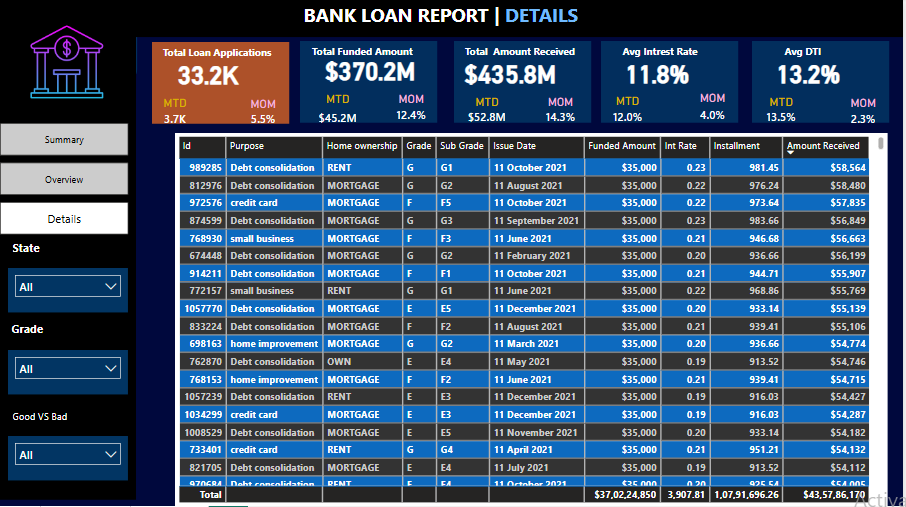

The page's visual inventory and layout, read from the dashboard file:
{"tool":"powerbi","page":{"name":"Details","canvas":[1280,720],"ordinal":2},"visuals":[{"type":"shape","box":[425.8,60.9,194.9,116.2],"z":0,"group":"g5"},{"type":"shape","box":[642.1,60.9,194.9,116.2],"z":0,"group":"g6"},{"type":"shape","box":[851.3,60.9,194.9,116.2],"z":0,"group":"g2"},{"type":"shape","box":[1065.8,60.9,194.9,116.2],"z":0,"group":"g1"},{"type":"shape","box":[214.9,62.7,194.9,116.2],"z":0,"group":"g4"},{"type":"shape","box":[0.3,0.1,194.9,116.2],"z":1000},{"type":"card","fields":{"Values":["Date Table.Total Funded Amount"]},"box":[435,67.2,178.8,66.1],"z":1000,"group":"g5"},{"type":"card","fields":{"Values":["Date Table.Total Amount Received"]},"box":[632.8,71.5,178.8,66.1],"z":1000,"group":"g6"},{"type":"card","fields":{"Values":["Date Table.Avg Interest Rate"]},"box":[842,71.5,178.8,66.1],"z":1000,"group":"g2"},{"type":"card","fields":{"Values":["Date Table.Avg DTI"]},"box":[1056.5,71.5,178.8,66.1],"z":1000,"group":"g1"},{"type":"card","fields":{"Values":["Date Table.Total Loan Applications"]},"box":[205.6,73.3,178.8,66.1],"z":1000,"group":"g4"},{"type":"shape","box":[0,55.3,192.8,656.2],"z":2000},{"type":"textbox","box":[425.5,60.8,195.6,35.4],"z":2000,"group":"g5"},{"type":"textbox","box":[641.8,60.8,195.6,35.4],"z":2000,"group":"g6"},{"type":"textbox","box":[851,60.8,195.6,35.4],"z":2000,"group":"g2"},{"type":"textbox","box":[1065.5,60.8,195.6,35.4],"z":2000,"group":"g1"},{"type":"textbox","box":[214.6,62.6,195.6,35.4],"z":2000,"group":"g4"},{"type":"shape","box":[0,0,1280,55.7],"z":3000},{"type":"card","title":"MOM","fields":{"Values":["Date Table.MOM total avg intreset amount"]},"box":[972,132,75.1,53.6],"z":3000,"group":"g2"},{"type":"card","title":"MOM","fields":{"Values":["Date Table.MOM total funded amount"]},"box":[547.7,133.3,71.5,48.3],"z":3000,"group":"g5"},{"type":"card","title":"MOM","fields":{"Values":["Date Table.MOM total Amount Recieved"]},"box":[762.8,137.2,60.8,44.7],"z":3000,"group":"g6"},{"type":"card","title":"MOM","fields":{"Values":["Date Table.MOM AVG DTI"]},"box":[1187.8,138.1,71.5,48.3],"z":3000,"group":"g1"},{"type":"card","title":"MOM","fields":{"Values":["Date Table.MOM Loan Application"]},"box":[336.8,140.2,71.5,46.5],"z":3000,"group":"g4"},{"type":"textbox","box":[425.5,0,445.1,55.4],"z":4000},{"type":"card","title":"MTD","fields":{"Values":["Date Table.MTD Funded Amount"]},"box":[436.8,133.3,84,57.2],"z":4000,"group":"g5"},{"type":"card","title":"MTD","fields":{"Values":["Date Table.MTD Avg Intrest rate"]},"box":[861.2,135.6,55.4,48.3],"z":4000,"group":"g2"},{"type":"card","title":"MTD","fields":{"Values":["Date Table.MTD Avg DTI"]},"box":[1076.4,137,62.6,46.5],"z":4000,"group":"g1"},{"type":"card","title":"MTD","fields":{"Values":["Date Table.MTD Total Amount Recieved"]},"box":[652,137.2,73.3,44.7],"z":4000,"group":"g6"},{"type":"card","title":"MTD","fields":{"Values":["Date Table.MTD Loan Application"]},"box":[224.6,139.2,48.2,49.6],"z":4000,"group":"g4"},{"type":"group","id":"g1","title":"Group 5","box":[1056.5,60.8,204.6,125.5],"z":4012,"group":"g3"},{"type":"group","id":"g2","title":"Group 1","box":[842,60.8,203.8,125.1],"z":5000},{"type":"group","id":"g3","title":"Group 1","box":[1056.5,60.8,204.6,125.5],"z":6000},{"type":"group","id":"g4","title":"Group 2","box":[205.6,62.6,204.6,126.2],"z":7000},{"type":"group","id":"g5","title":"Group 3","box":[425.5,60.8,196.6,130.5],"z":8000},{"type":"group","id":"g6","title":"Group 4","box":[632.8,60.8,205.6,121.6],"z":9000},{"type":"slicer","fields":{"Values":["financial_loan.address_state"]},"box":[10.7,382.6,169.8,62.6],"z":10000},{"type":"textbox","box":[12.5,337.9,85.8,44.7],"z":12000},{"type":"slicer","fields":{"Values":["financial_loan.grade"]},"box":[10.7,498.8,169.8,62.6],"z":13000},{"type":"textbox","box":[10.7,452.3,98.3,46.5],"z":14000},{"type":"slicer","fields":{"Values":["financial_loan.Good vs Bad"]},"box":[10.7,620.3,169.8,62.6],"z":15000},{"type":"textbox","box":[12.5,579.2,107.3,41.1],"z":16000},{"type":"tableEx","fields":{"Values":["financial_loan.id","financial_loan.purpose","financial_loan.home_ownership","financial_loan.grade","financial_loan.sub_grade","financial_loan.issue_date","Date Table.Total Funded Amount","Sum(financial_loan.int_rate)","Sum(financial_loan.installment)","Date Table.Total Amount Received"]},"box":[248.3,191.2,1010.3,529.4],"z":19001},{"type":"image","box":[31.4,24.3,127,132.7],"z":19002},{"type":"pageNavigator","box":[0,176.9,182.7,158.4],"z":19003}]}

Visuals, with their boxes on the page's 1280x720 design canvas (x1, y1, x2, y2). These are canvas units, not pixel positions in the 906x507 screenshot, which may show the page scaled, cropped or inside an application window:
shape: left=426, top=61, right=621, bottom=177
shape: left=642, top=61, right=837, bottom=177
shape: left=851, top=61, right=1046, bottom=177
shape: left=1066, top=61, right=1261, bottom=177
shape: left=215, top=63, right=410, bottom=179
shape: left=0, top=0, right=195, bottom=116
card - Date Table.Total Funded Amount: left=435, top=67, right=614, bottom=133
card - Date Table.Total Amount Received: left=633, top=72, right=812, bottom=138
card - Date Table.Avg Interest Rate: left=842, top=72, right=1021, bottom=138
card - Date Table.Avg DTI: left=1056, top=72, right=1235, bottom=138
card - Date Table.Total Loan Applications: left=206, top=73, right=384, bottom=139
shape: left=0, top=55, right=193, bottom=712
textbox: left=426, top=61, right=621, bottom=96
textbox: left=642, top=61, right=837, bottom=96
textbox: left=851, top=61, right=1047, bottom=96
textbox: left=1066, top=61, right=1261, bottom=96
textbox: left=215, top=63, right=410, bottom=98
shape: left=0, top=0, right=1280, bottom=56
"MOM" card: left=972, top=132, right=1047, bottom=186
"MOM" card: left=548, top=133, right=619, bottom=182
"MOM" card: left=763, top=137, right=824, bottom=182
"MOM" card: left=1188, top=138, right=1259, bottom=186
"MOM" card: left=337, top=140, right=408, bottom=187
textbox: left=426, top=0, right=871, bottom=55
"MTD" card: left=437, top=133, right=521, bottom=190
"MTD" card: left=861, top=136, right=917, bottom=184
"MTD" card: left=1076, top=137, right=1139, bottom=184
"MTD" card: left=652, top=137, right=725, bottom=182
"MTD" card: left=225, top=139, right=273, bottom=189
"Group 5" group: left=1056, top=61, right=1261, bottom=186
"Group 1" group: left=842, top=61, right=1046, bottom=186
"Group 1" group: left=1056, top=61, right=1261, bottom=186
"Group 2" group: left=206, top=63, right=410, bottom=189
"Group 3" group: left=426, top=61, right=622, bottom=191
"Group 4" group: left=633, top=61, right=838, bottom=182
slicer - financial_loan.address_state: left=11, top=383, right=180, bottom=445
textbox: left=12, top=338, right=98, bottom=383
slicer - financial_loan.grade: left=11, top=499, right=180, bottom=561
textbox: left=11, top=452, right=109, bottom=499
slicer - financial_loan.Good vs Bad: left=11, top=620, right=180, bottom=683
textbox: left=12, top=579, right=120, bottom=620
tableEx - financial_loan.id x financial_loan.purpose: left=248, top=191, right=1259, bottom=721
image: left=31, top=24, right=158, bottom=157
pageNavigator: left=0, top=177, right=183, bottom=335
